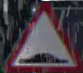Speed Breaker ahead: (6, 3, 81, 72)
